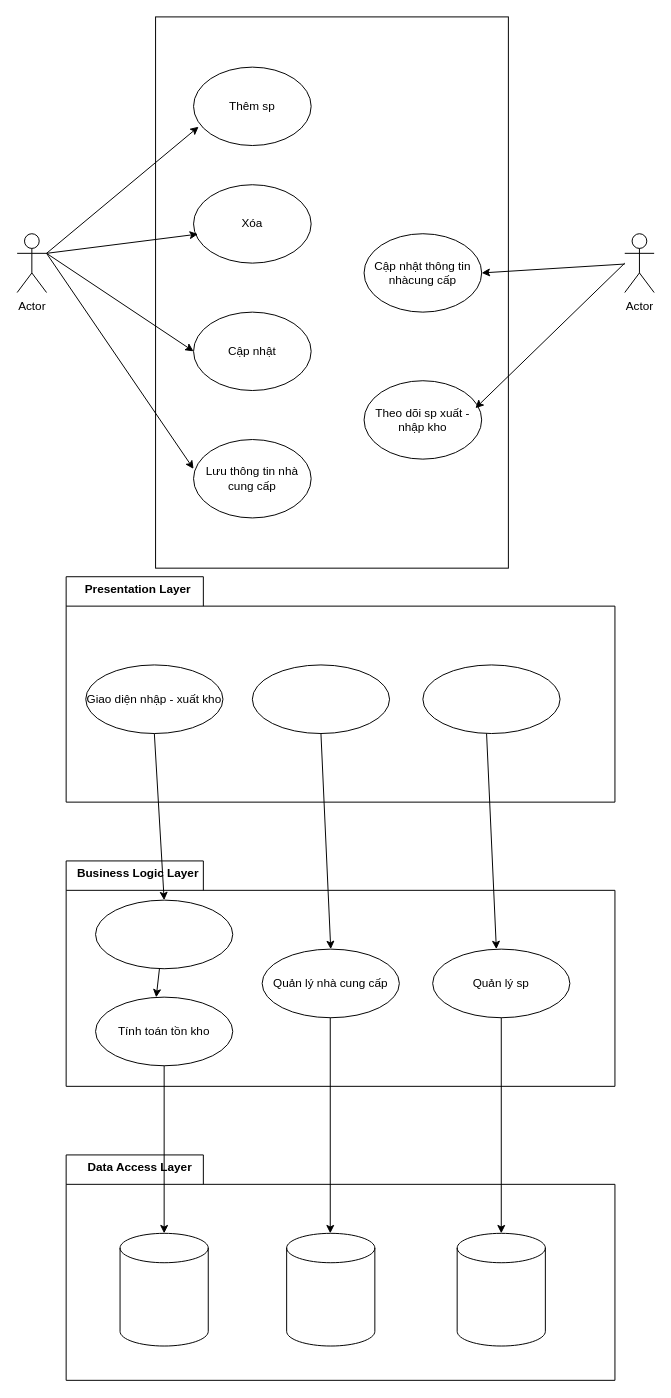
Image size: 671x1398. Some labels were removed from this diagram. Here are the shapes that lost their labels. From the top down, the centre of each, then its label:
At point (320, 699): "Giao diên nhà cung cấp".
At point (491, 699): "Giao diện sản phẩm".
At point (164, 934): "Quản lý xuất - nhập kho".
At point (163, 1289): "Xuất - Nhập kho".
At point (330, 1289): "Nhà cung cấp".
At point (500, 1289): "Sản phẩm".
